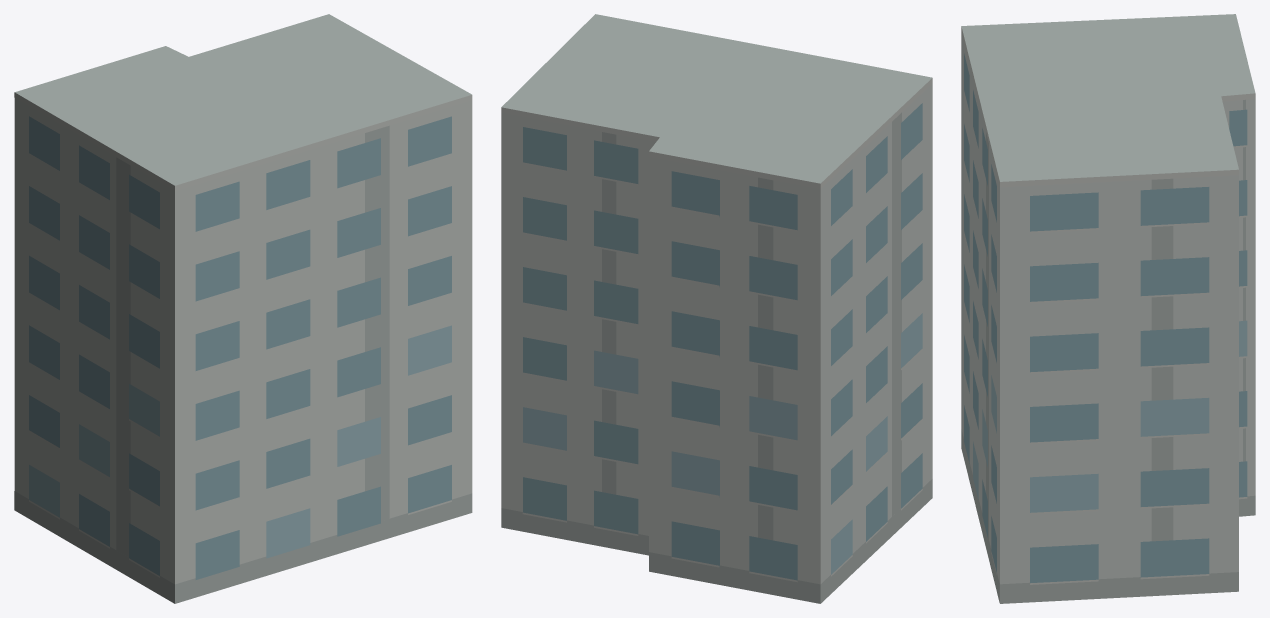
The model's file is survey-upis-32871545.glb.
The picture shows the model from 3 angles, left to right: view 1: azimuth 30°, elevation 25°; view 2: azimuth 150°, elevation 25°; view 3: azimuth 270°, elevation 25°; orthographic projection.
Visible parts, largest first — view 1: survey-upis-32871545.tmp; view 2: survey-upis-32871545.tmp; view 3: survey-upis-32871545.tmp.
Boxes of the visible parts, box(x1,y1,x2,y2) form: survey-upis-32871545.tmp: box(14, 14, 472, 603); survey-upis-32871545.tmp: box(501, 14, 932, 603); survey-upis-32871545.tmp: box(961, 14, 1255, 603).
Size of the model in its own units: 15.63 by 18.3 by 11.57.
